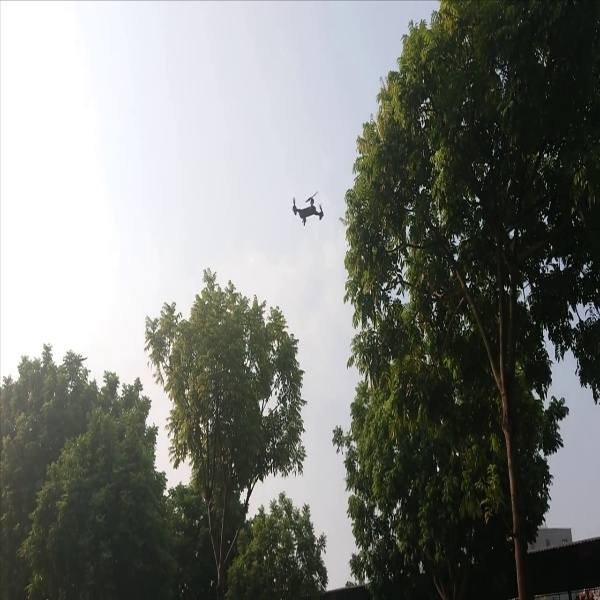drone: (285, 190, 331, 231)
